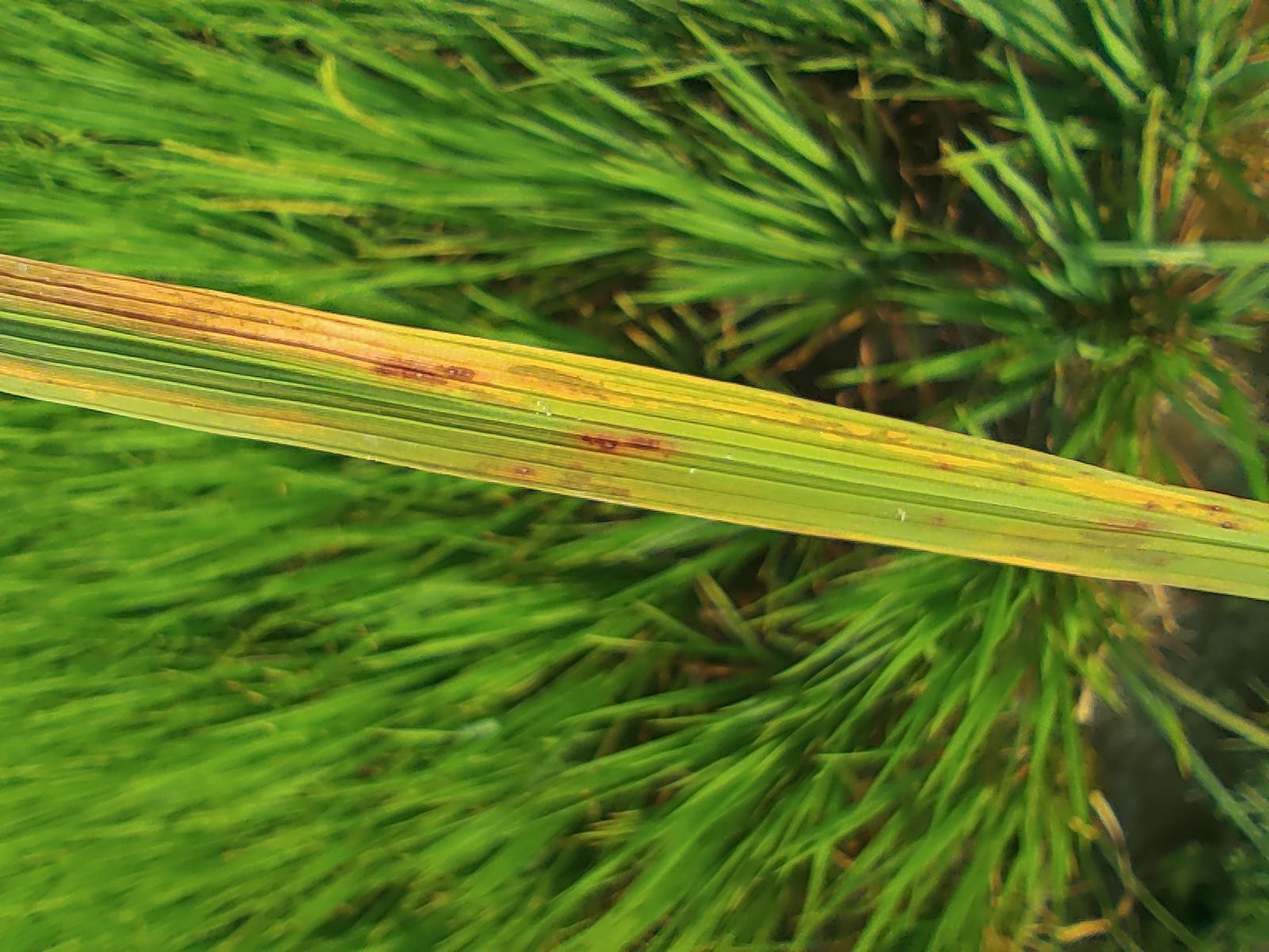LEAF: (468, 0, 928, 951)
NBS: (756, 280, 786, 357), (665, 436, 692, 494)
